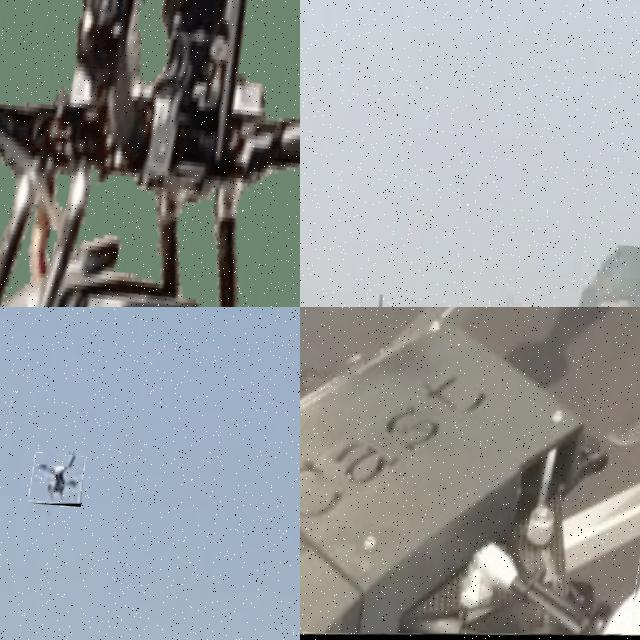0: (29, 452, 84, 506)
drone: (300, 307, 640, 640), (0, 0, 300, 307)
